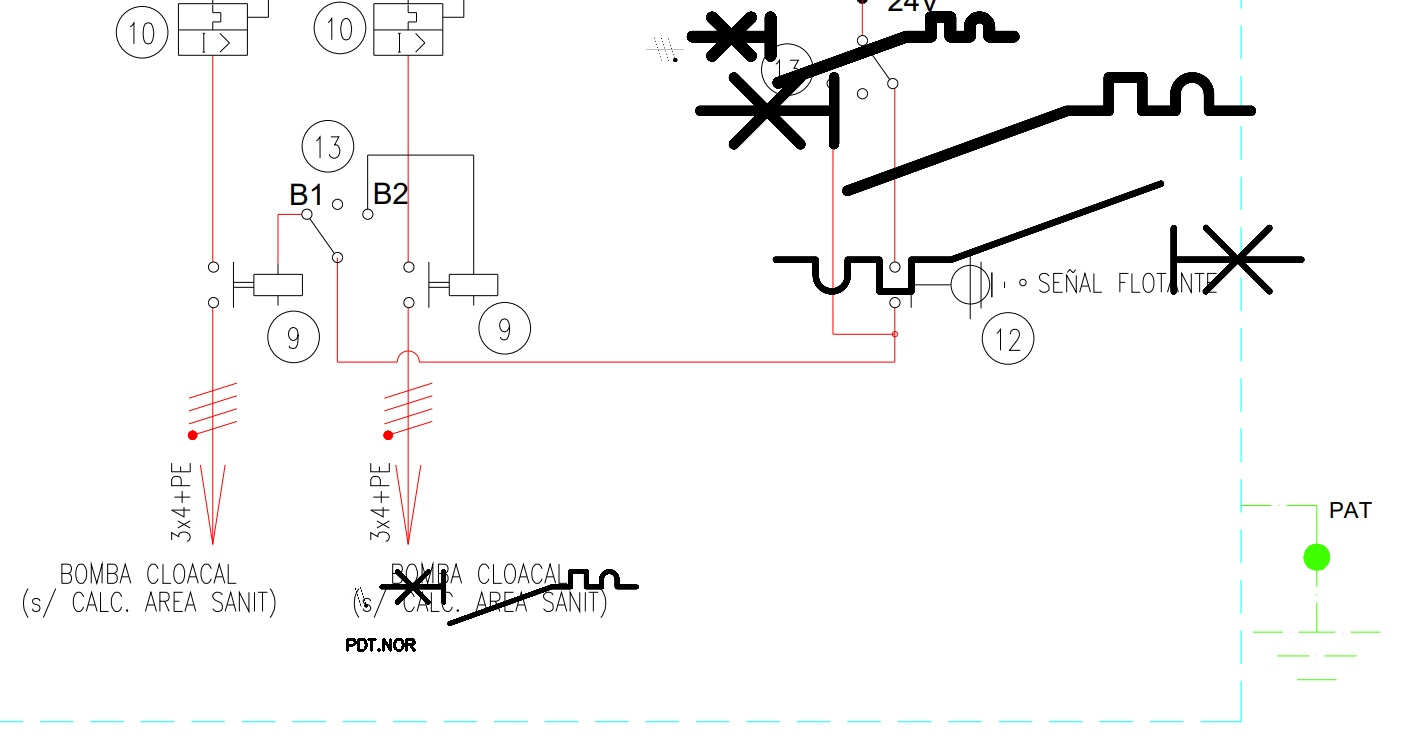interruptor_termomagnetico: (686, 63, 1265, 205), (762, 170, 1315, 305), (684, 9, 1022, 91), (375, 565, 643, 630)
